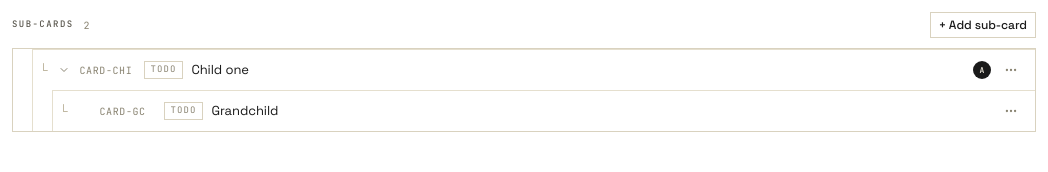
SubcardTree › manually expanding a collapsed node shows its children
What coordinates should you click on to do the following:
click the button named "Collapse sub-cards of Child one"
I would click on:
 (64, 70)
Its box is [56,62,72,78].
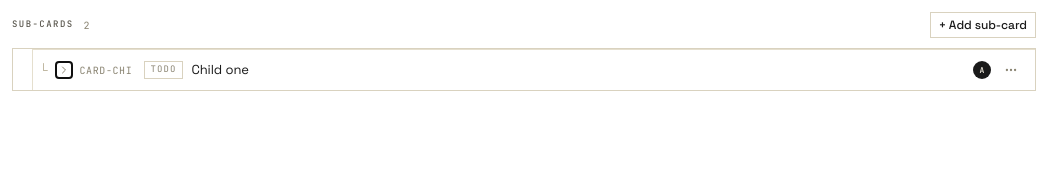
expect the button "Grandchild" is gone: met
What coordinates should you click on to do the following:
click the button named "Expand sub-cards of Child one"
I would click on:
 (64, 70)
Its box is [56,62,72,78].
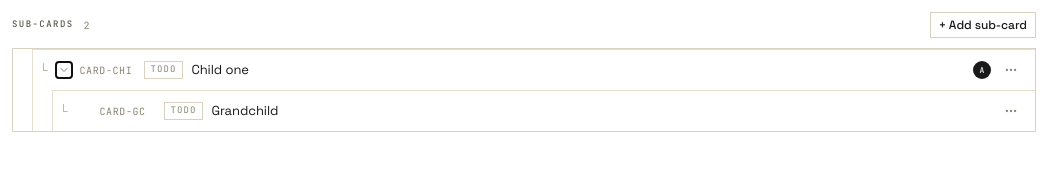
expect the button "Grandchild" is shown: met, box [211,101,991,121]
